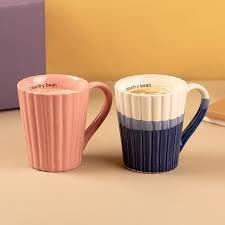Mug: (11, 60, 112, 175)
